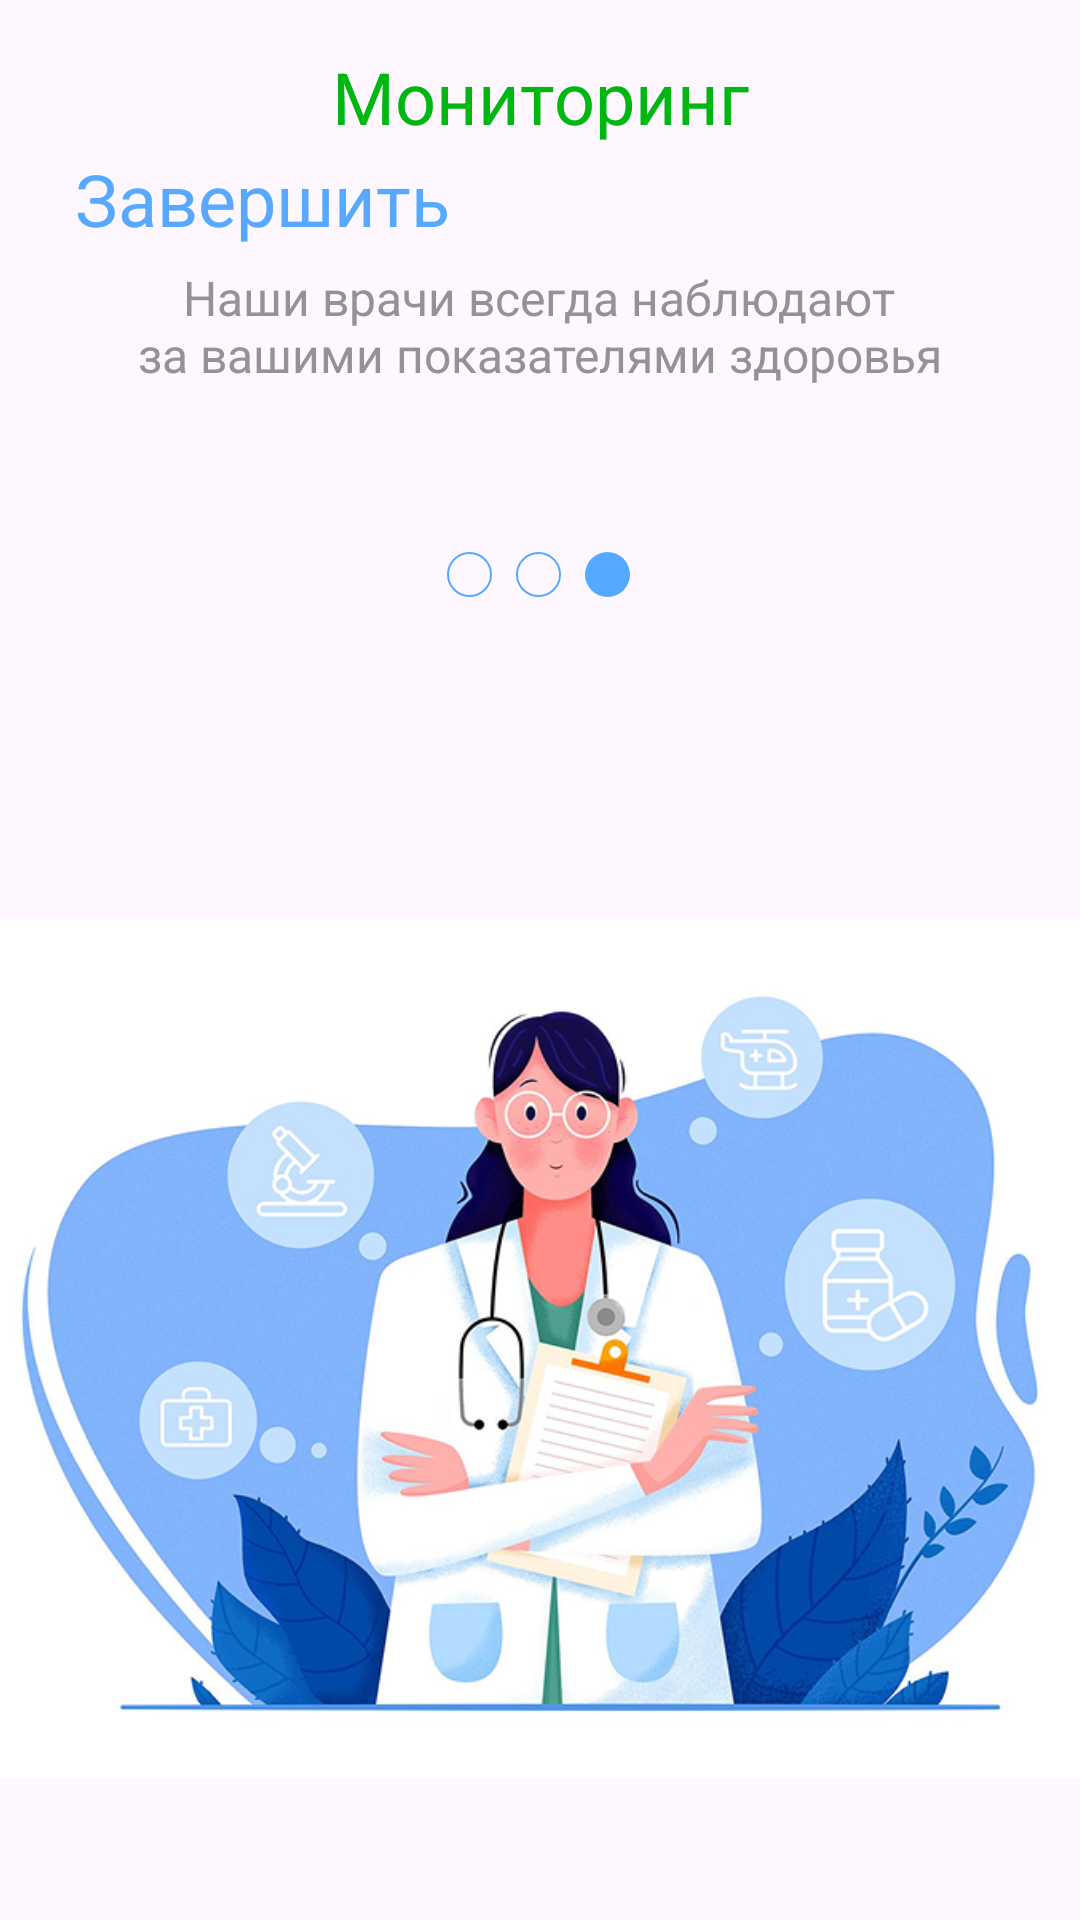

Screen size 1080x1920. Icon name, then its center in pixels as (x,y):
dot: (469,574), (538,574), (607,574)
